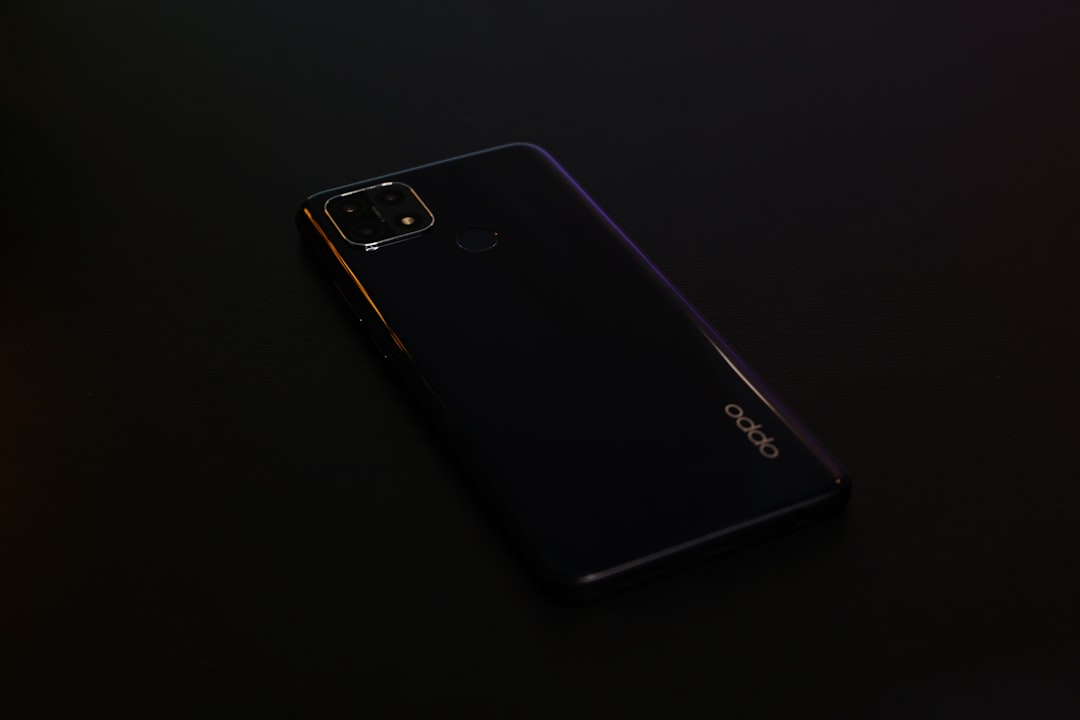phone: (295, 139, 854, 612)
